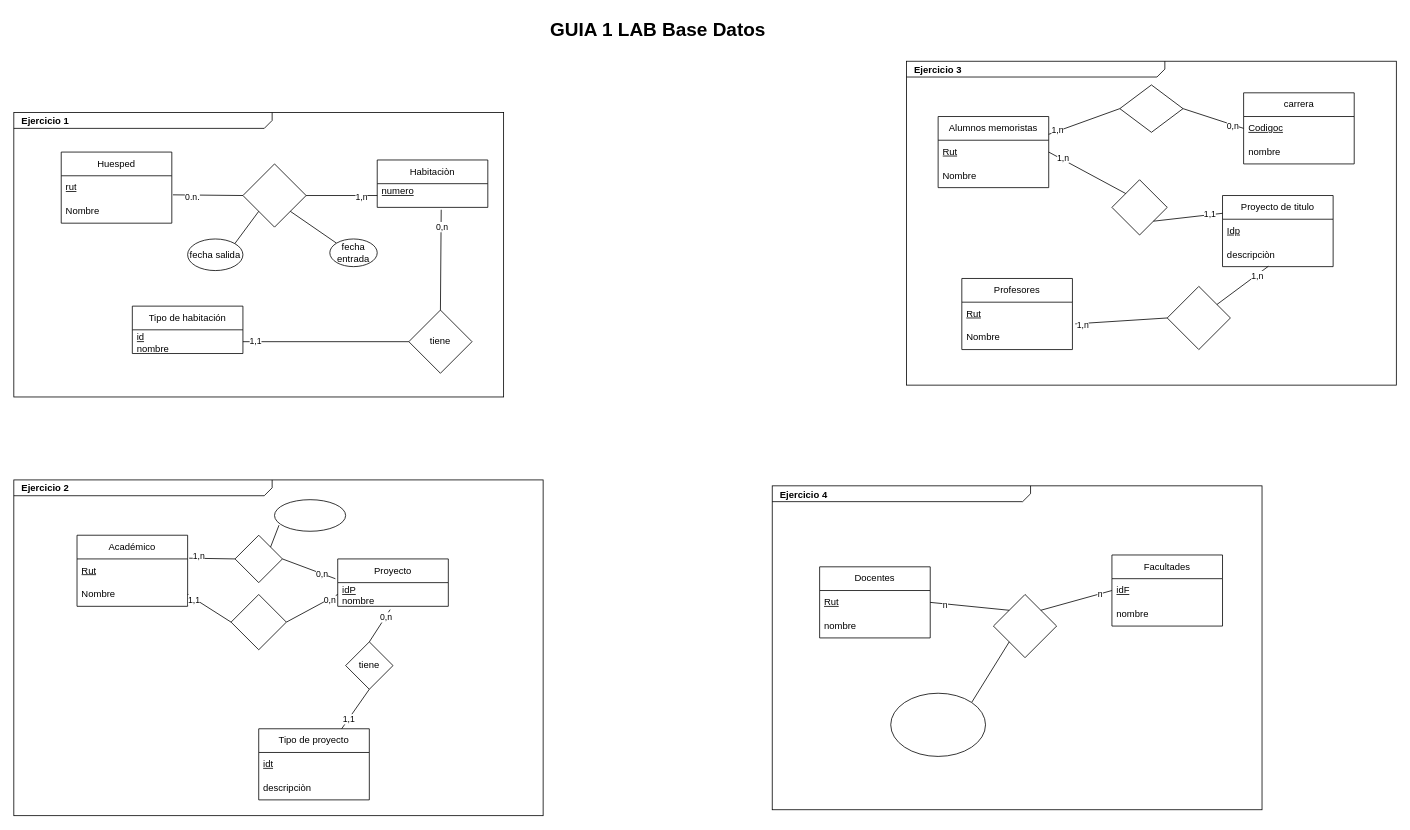
Image size: 1410x830. Some labels were removed from this diagram. Each missing label, with the centre of its shape:
"contratan" belongs at [1025,626].
"guiado" belongs at [1198,318].
"jefe proyecto" belongs at [258,622].
"Jornada" belongs at [938,724].
"participa" belongs at [258,558].
"pertenecen" belongs at [1151,108].
"preparan" belongs at [1139,207].
"se alojan" belongs at [274,195].
"semestre" belongs at [310,515].
